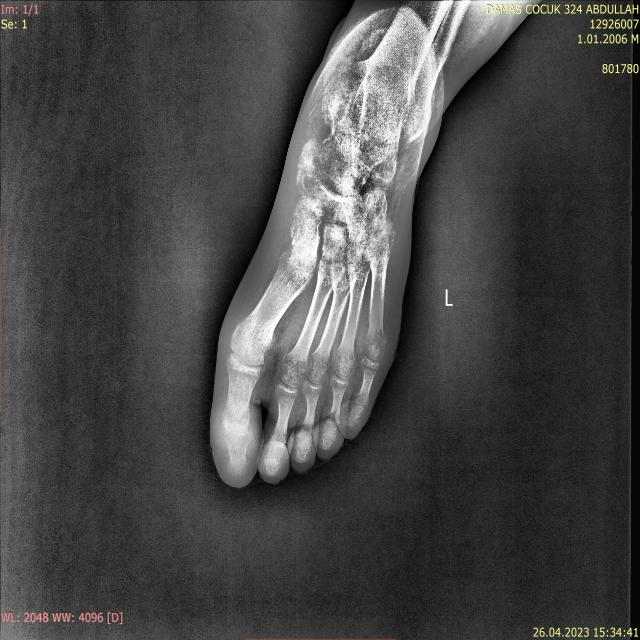Fracture: (279, 244, 318, 279)
